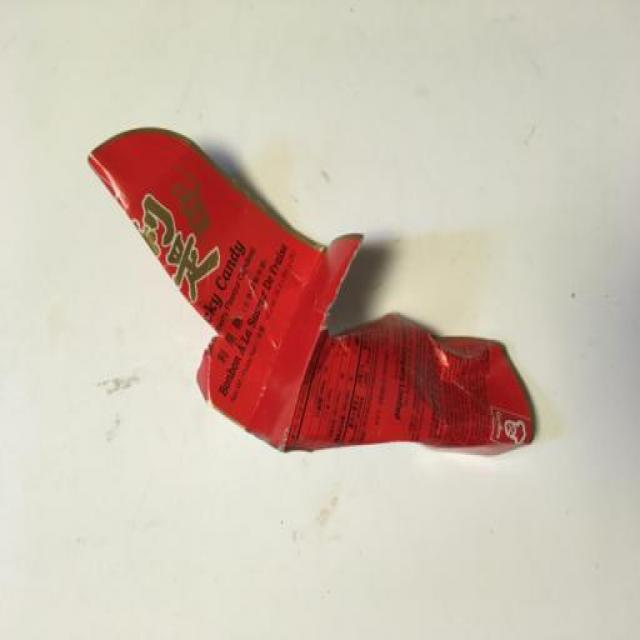paper: (65, 84, 594, 519)
